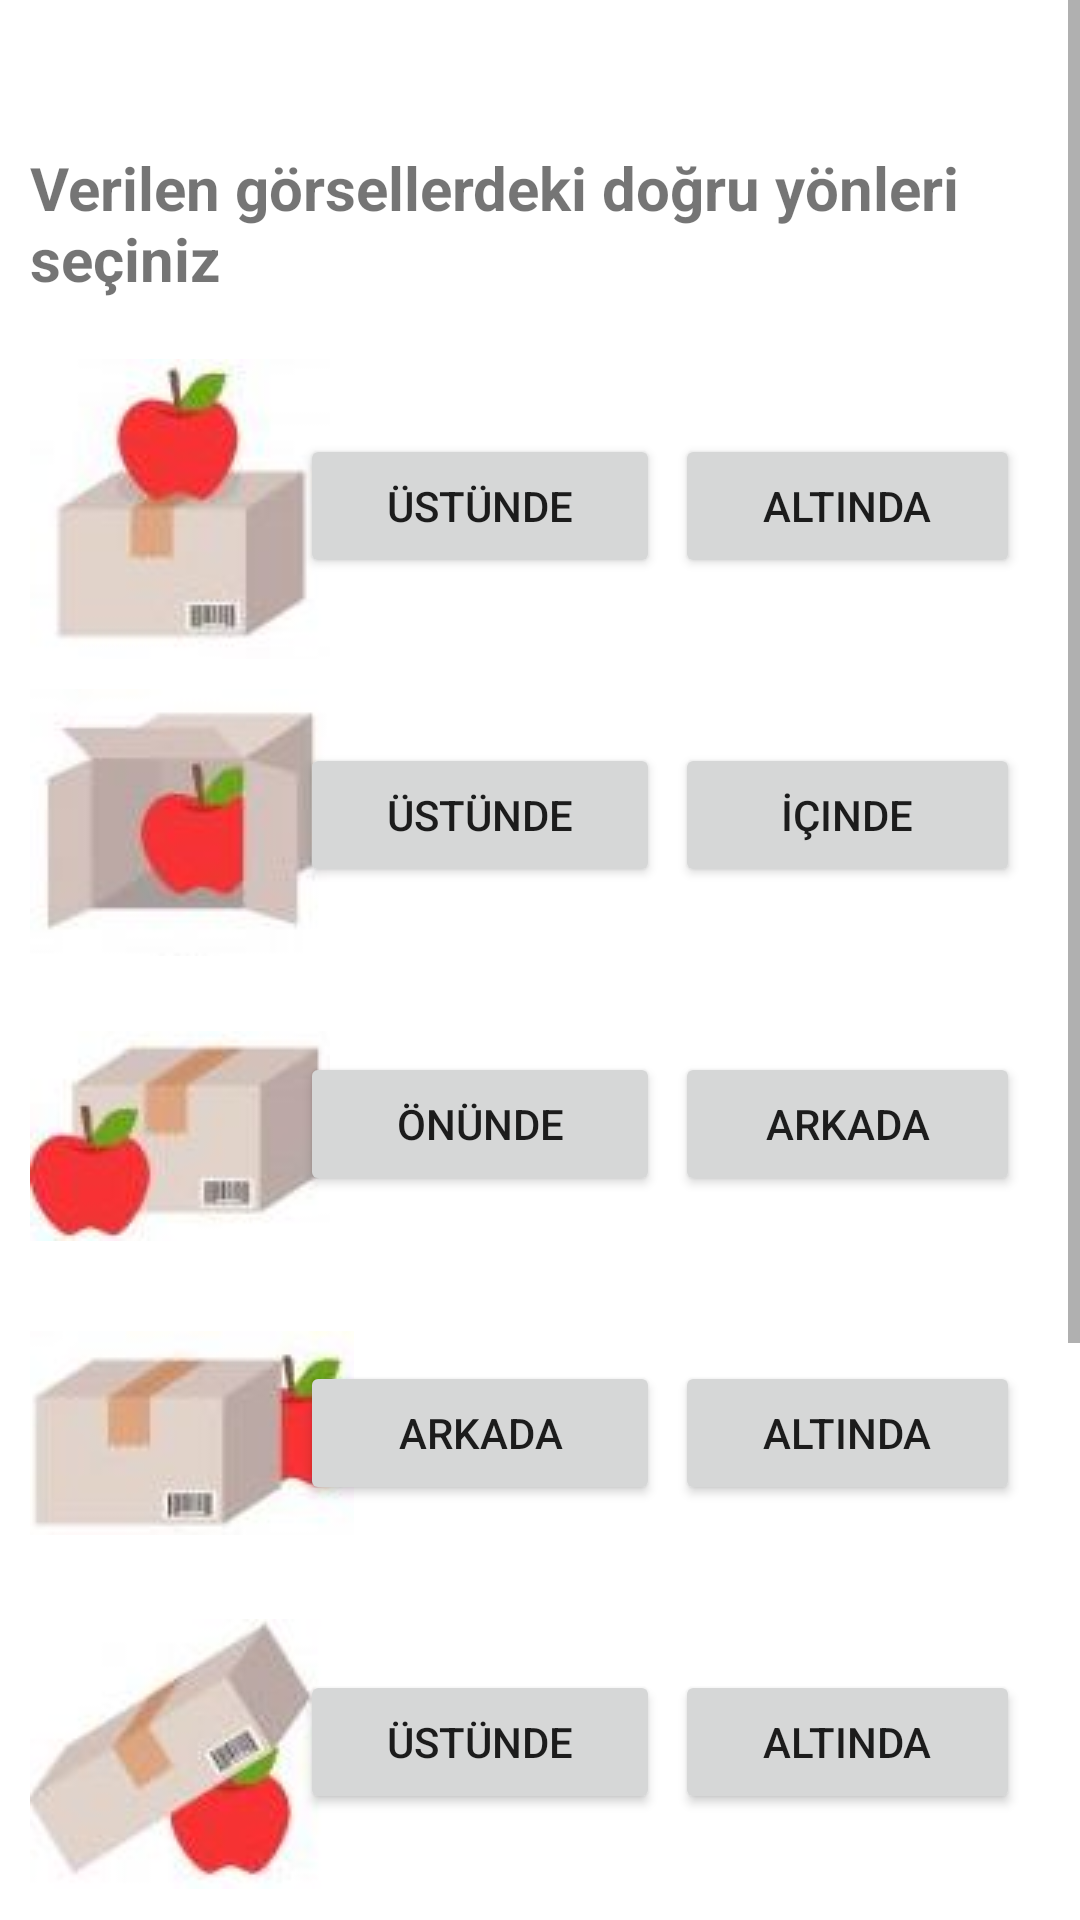

Point at icon controls on the screen. Image size 1080 x 1920, points as (x,y).
below: (180,1749)
